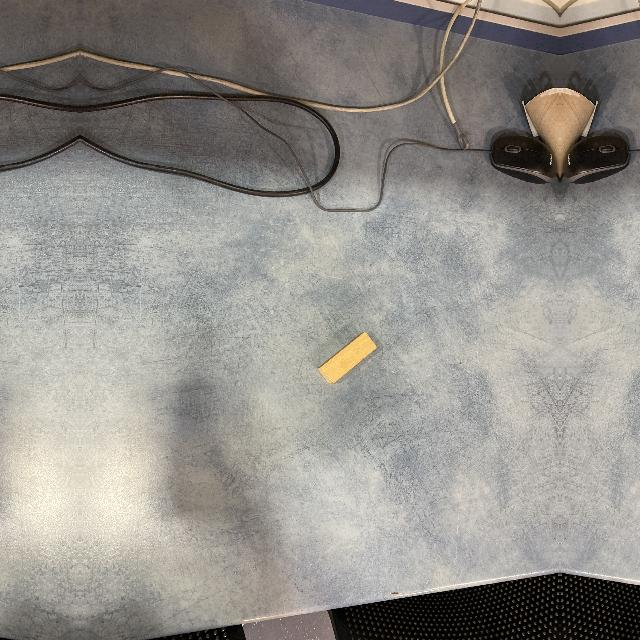jenga: (318, 332, 377, 384)
